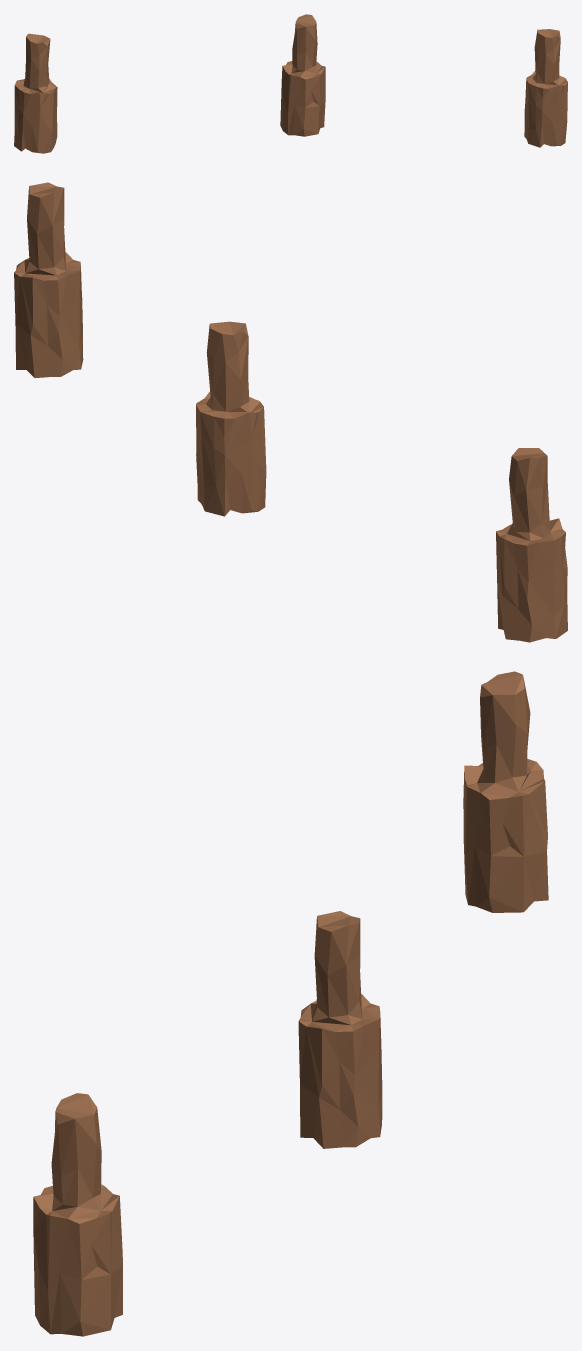
File: TripleRow.fbx
3 views of the same model, one above another, from view 1: azimuth 30°, elevation 25°; view 2: azimuth 150°, elevation 25°; view 3: azimuth 270°, elevation 25° (orthographic). The views are drawn at different scales.
Visible parts, largest first — view 1: Cube.010, Cube.011, Cube.008; view 2: Cube.010, Cube.011, Cube.008; view 3: Cube.008, Cube.011, Cube.010.
Boxes of the visible parts, <box> form: Cube.010: <box>280,14,325,136</box>; Cube.011: <box>14,33,57,153</box>; Cube.008: <box>524,29,567,147</box>; Cube.010: <box>196,321,266,516</box>; Cube.011: <box>496,448,567,642</box>; Cube.008: <box>14,182,83,377</box>; Cube.008: <box>33,1093,122,1336</box>; Cube.011: <box>463,671,548,912</box>; Cube.010: <box>298,911,382,1148</box>.
Size of the model in its own units: 3661 by 994 by 1853.
